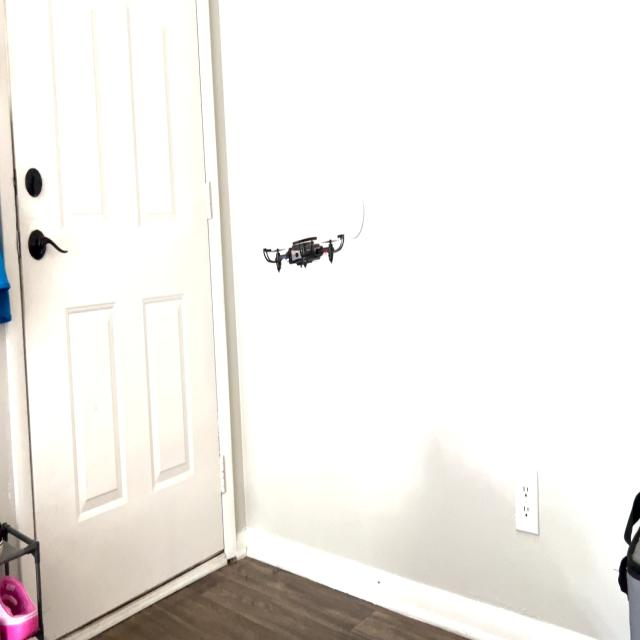drone: (252, 216, 358, 292)
